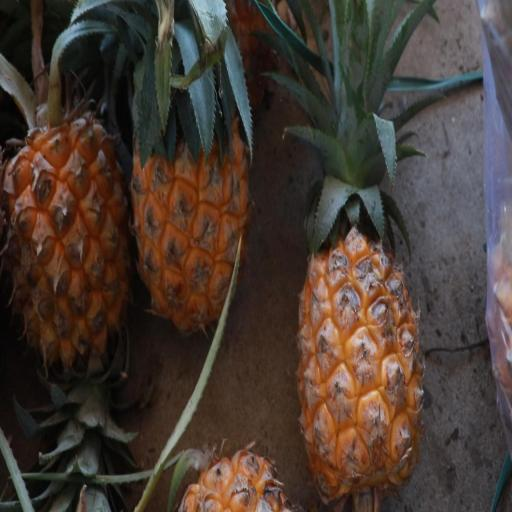Pineapple - v8 v1: (292, 194, 428, 512), (0, 59, 129, 370), (128, 45, 254, 339)
